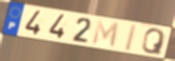2: (70, 17, 92, 45)
4: (23, 10, 42, 37), (47, 14, 66, 41)
I: (123, 23, 139, 53)
M: (91, 19, 121, 49)
Q: (140, 28, 167, 57)
